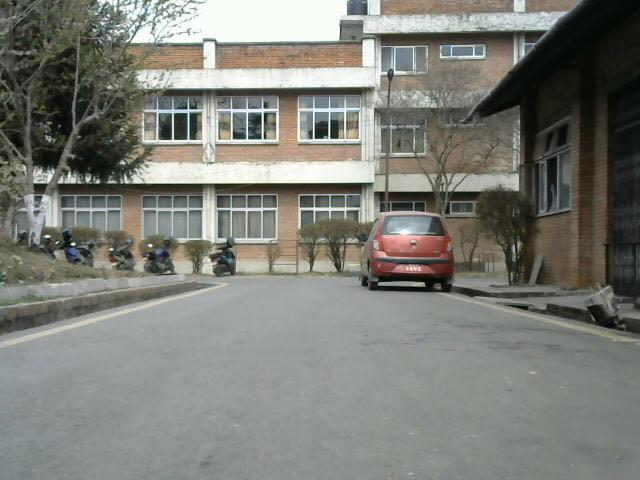Building: (127, 0, 577, 204)
Car: (363, 211, 468, 297)
Electrical Pole: (381, 64, 402, 232)
Motorcycle: (144, 231, 184, 283), (104, 226, 136, 271), (209, 239, 236, 280)
Road: (0, 285, 624, 480)
Tree: (1, 4, 157, 253)
